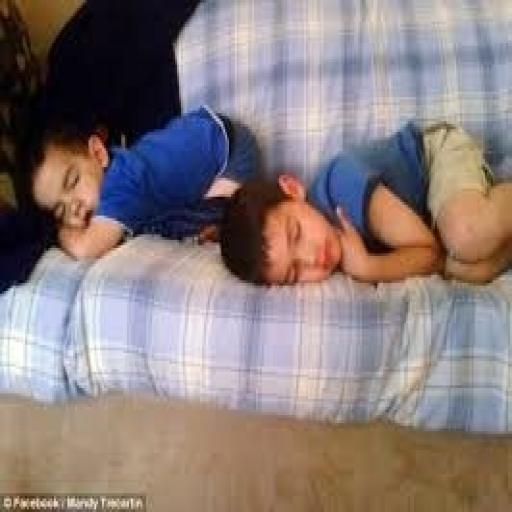sleeping: (218, 116, 510, 291), (23, 100, 266, 261)
